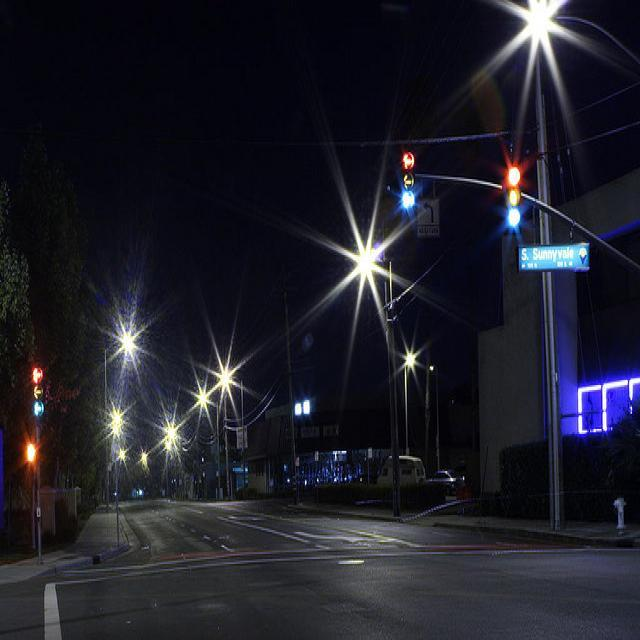fire_hydrant: (613, 496, 627, 536)
